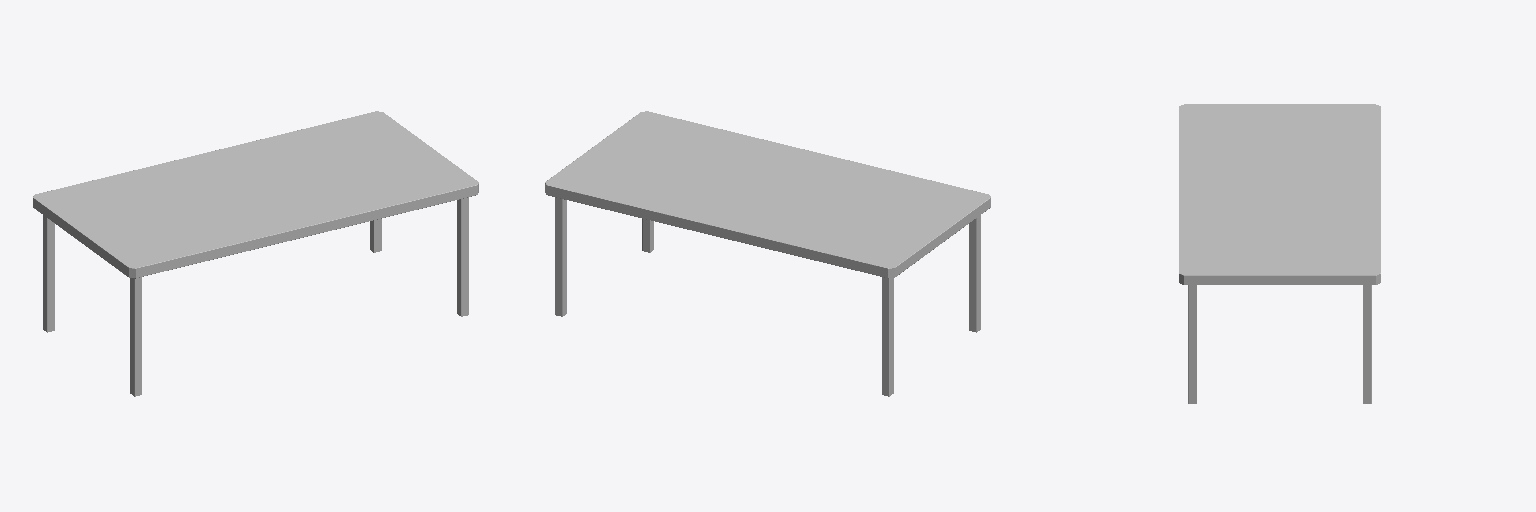
Rendered from hor1_table2b2.obj.
The picture shows the model from 3 angles: view 1: azimuth 30°, elevation 25°; view 2: azimuth 150°, elevation 25°; view 3: azimuth 270°, elevation 25°; orthographic projection.
Parts seen in each view (by area): view 1: Plane.001_Plane.013; view 2: Plane.001_Plane.013; view 3: Plane.001_Plane.013.
Part boxes in pixels (left/top/right/bottom): Plane.001_Plane.013: left=33, top=111, right=478, bottom=396; Plane.001_Plane.013: left=545, top=111, right=990, bottom=396; Plane.001_Plane.013: left=1179, top=104, right=1380, bottom=403.
Bounding box in the file's own units: 1.8 × 0.65 × 0.9.